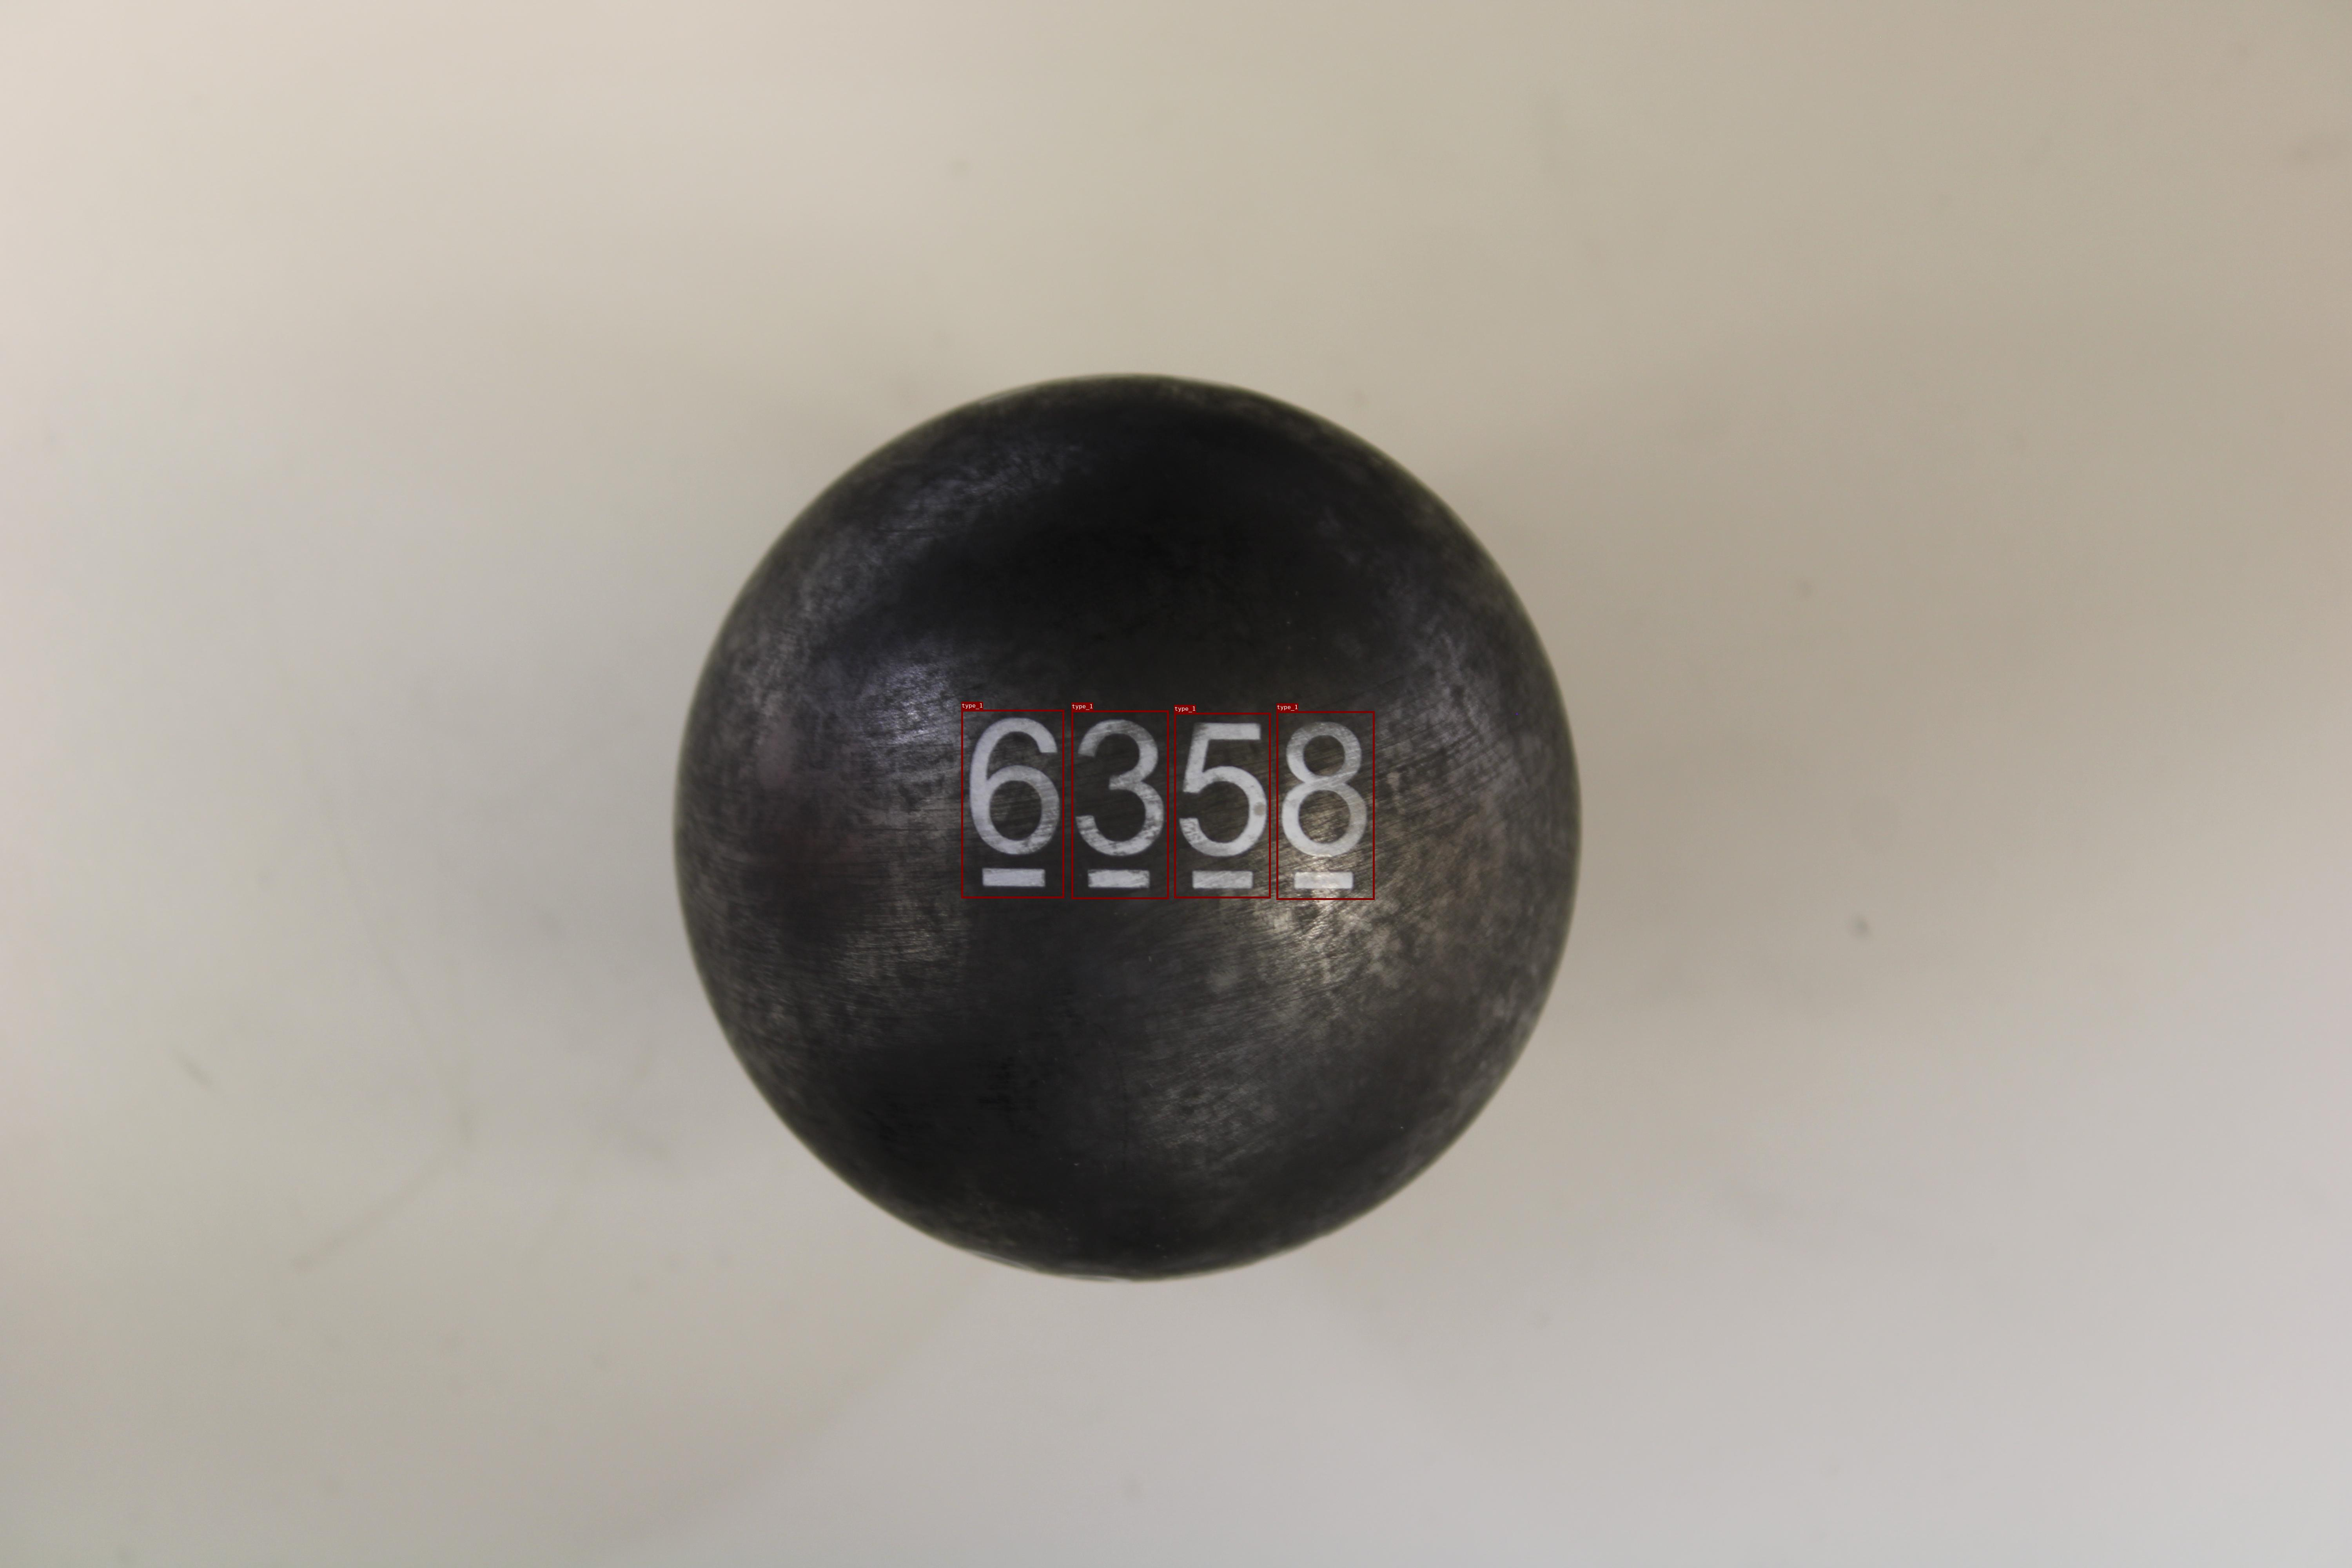type_1: (961, 709, 1064, 898), (1071, 710, 1169, 900), (1276, 710, 1374, 900), (1174, 712, 1270, 898)
